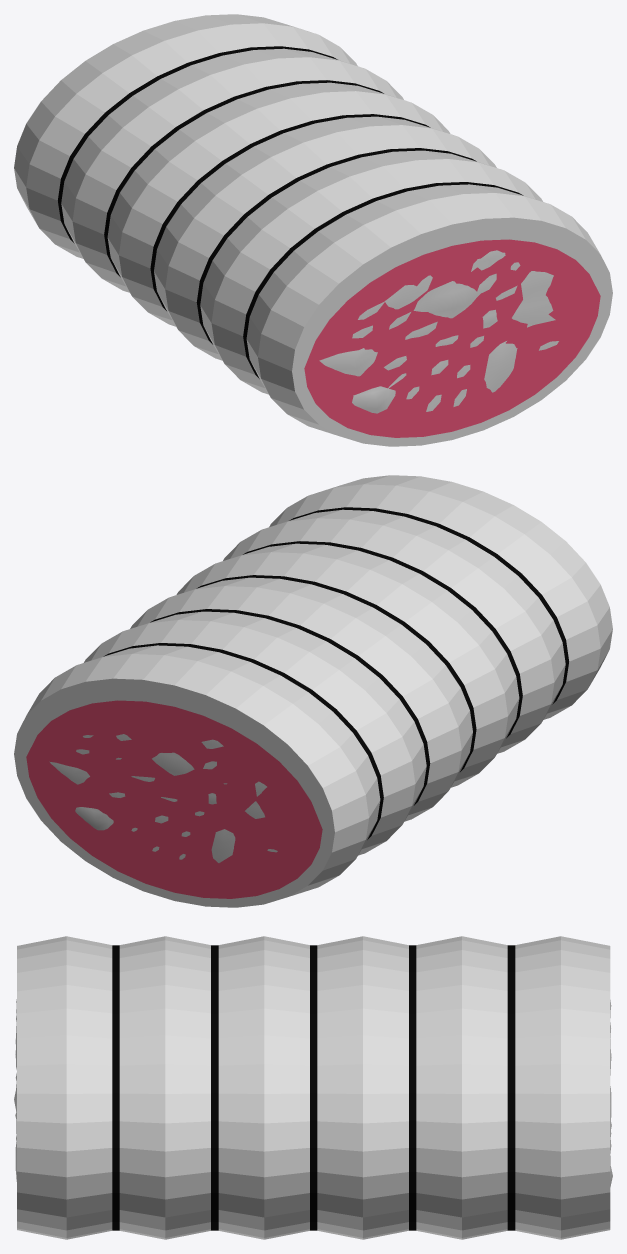
File: PorkShoulder.fbx
3 views of the same model, one above another, from view 1: azimuth 30°, elevation 25°; view 2: azimuth 150°, elevation 25°; view 3: azimuth 270°, elevation 25° (orthographic). The views are drawn at different scales.
Parts seen in each view (by area): view 1: PorkShoulder, PorkMarbling1; view 2: PorkShoulder, PorkMarbling; view 3: PorkShoulder.
Part boxes in pixels (x1=…): PorkShoulder: x1=14, y1=14, x2=612, y2=446; PorkMarbling1: x1=319, y1=250, x2=558, y2=413; PorkShoulder: x1=14, y1=475, x2=612, y2=907; PorkMarbling: x1=49, y1=734, x2=277, y2=862; PorkShoulder: x1=17, y1=936, x2=610, y2=1239.
Size of the model in its own units: 214 by 137 by 303.
